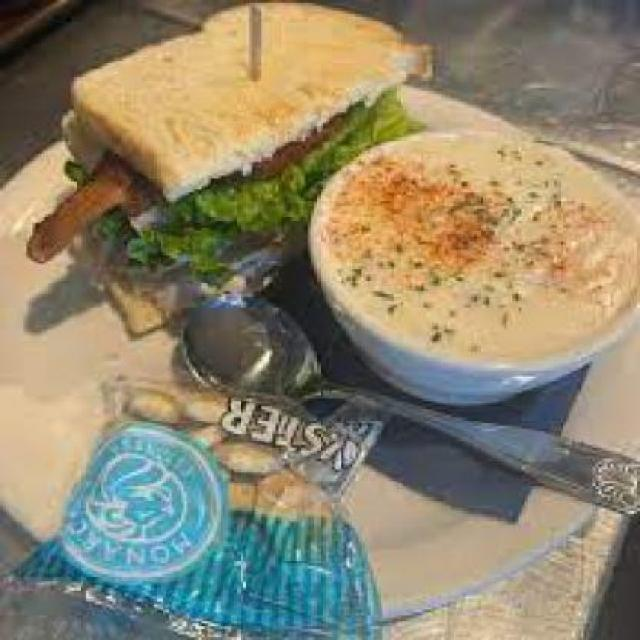clam chowder: (320, 117, 637, 400)
